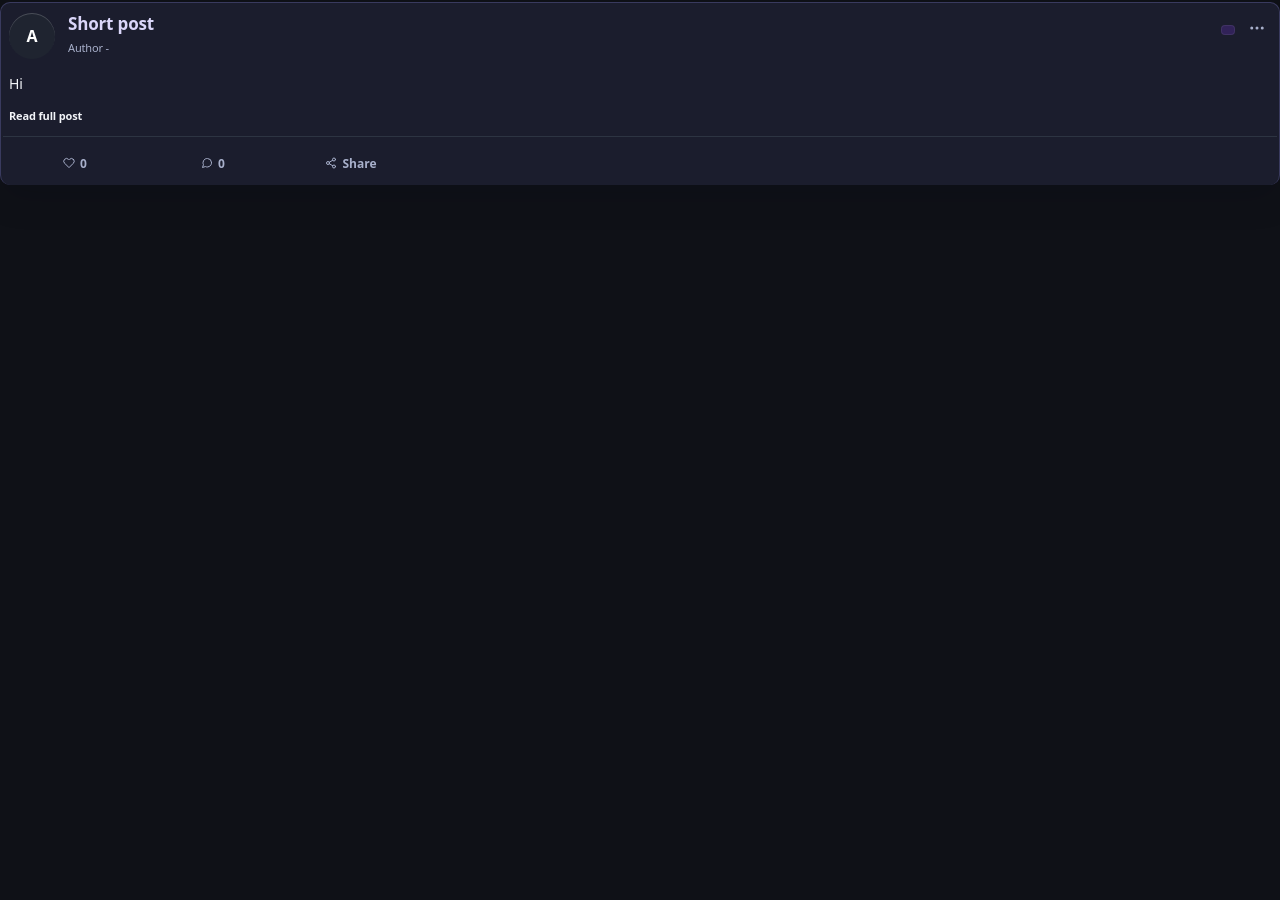
Scenario: keeps the report dialog open with clear failure feedback for 409
This screenshot has width=1280, height=900.
Click the button named "More options" at (1256, 28), box [1241,13,1271,43]
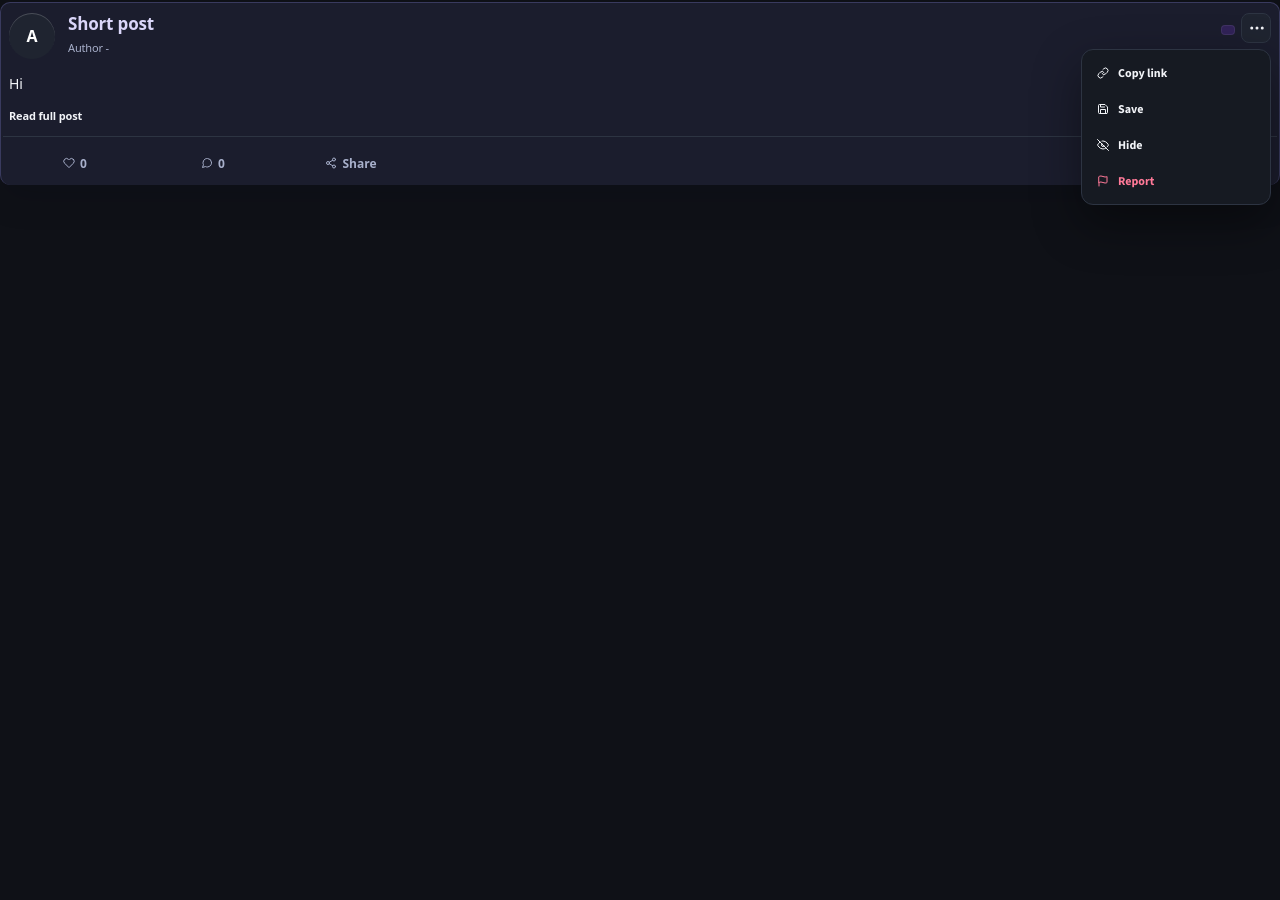
Click the menu item "Report" at (1176, 181), box [1087,163,1265,199]
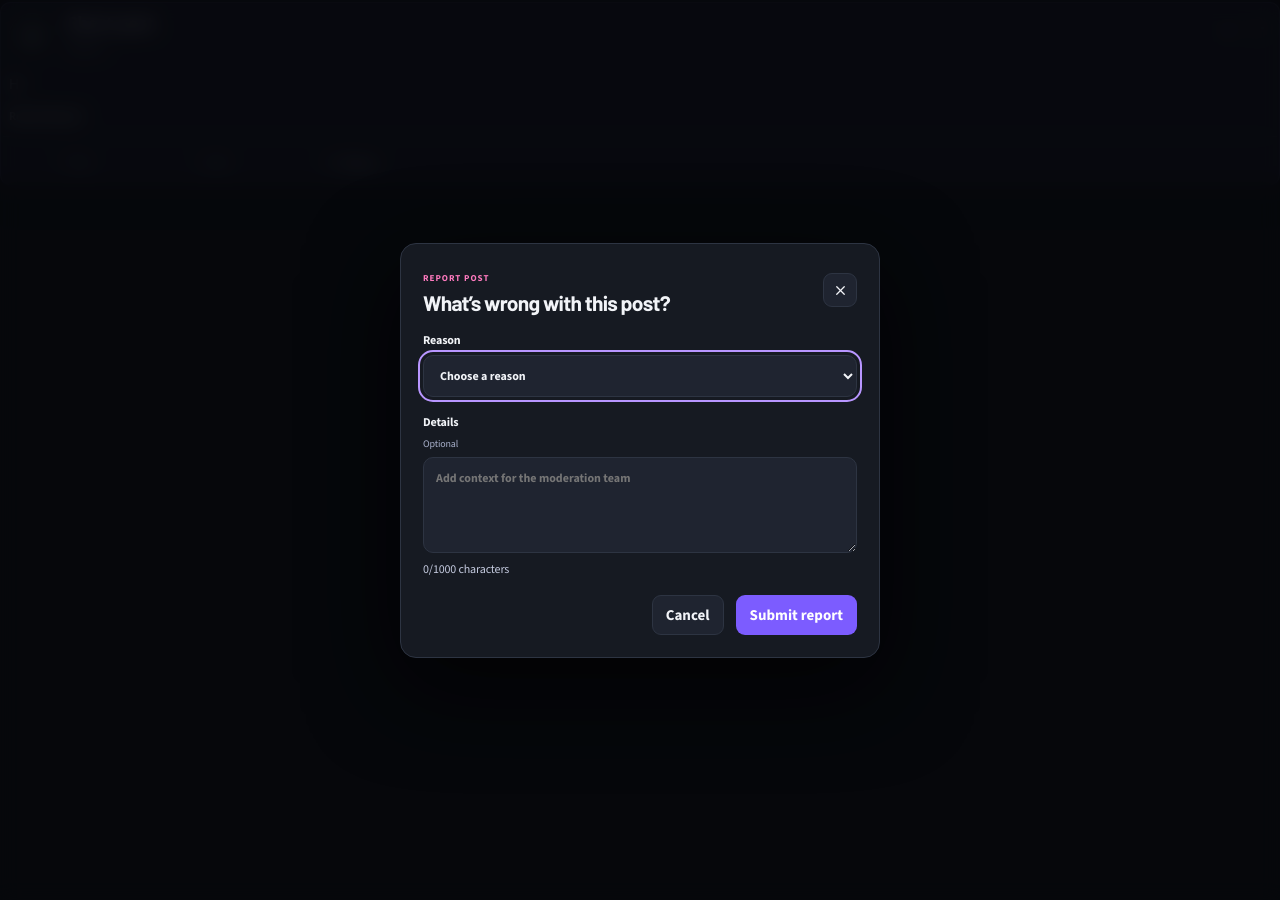
Select "Harassment" in the dropdown labelled "Reason" at (640, 376), box [423,354,857,396]
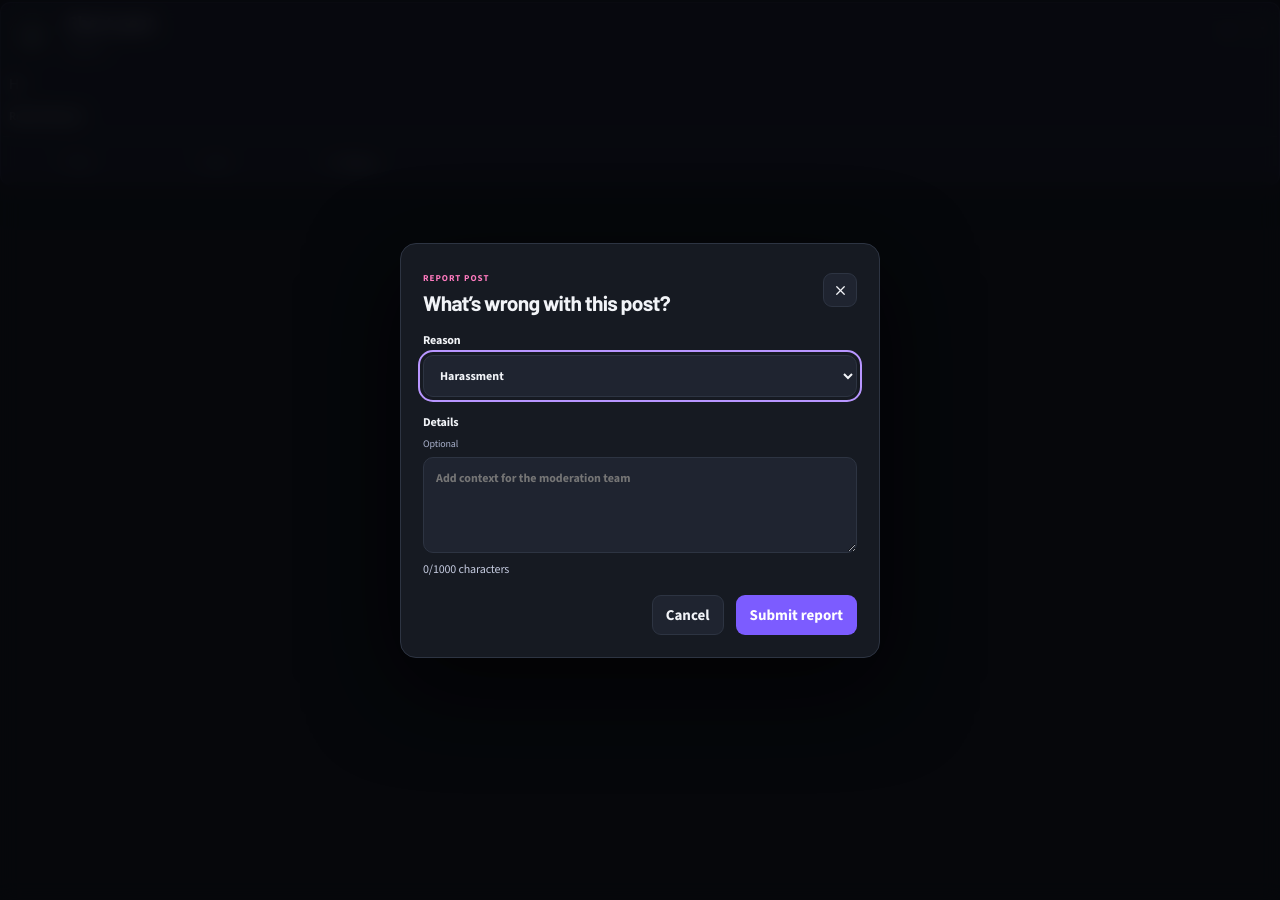
Click the button "Submit report" at (796, 614), box [736,594,857,634]
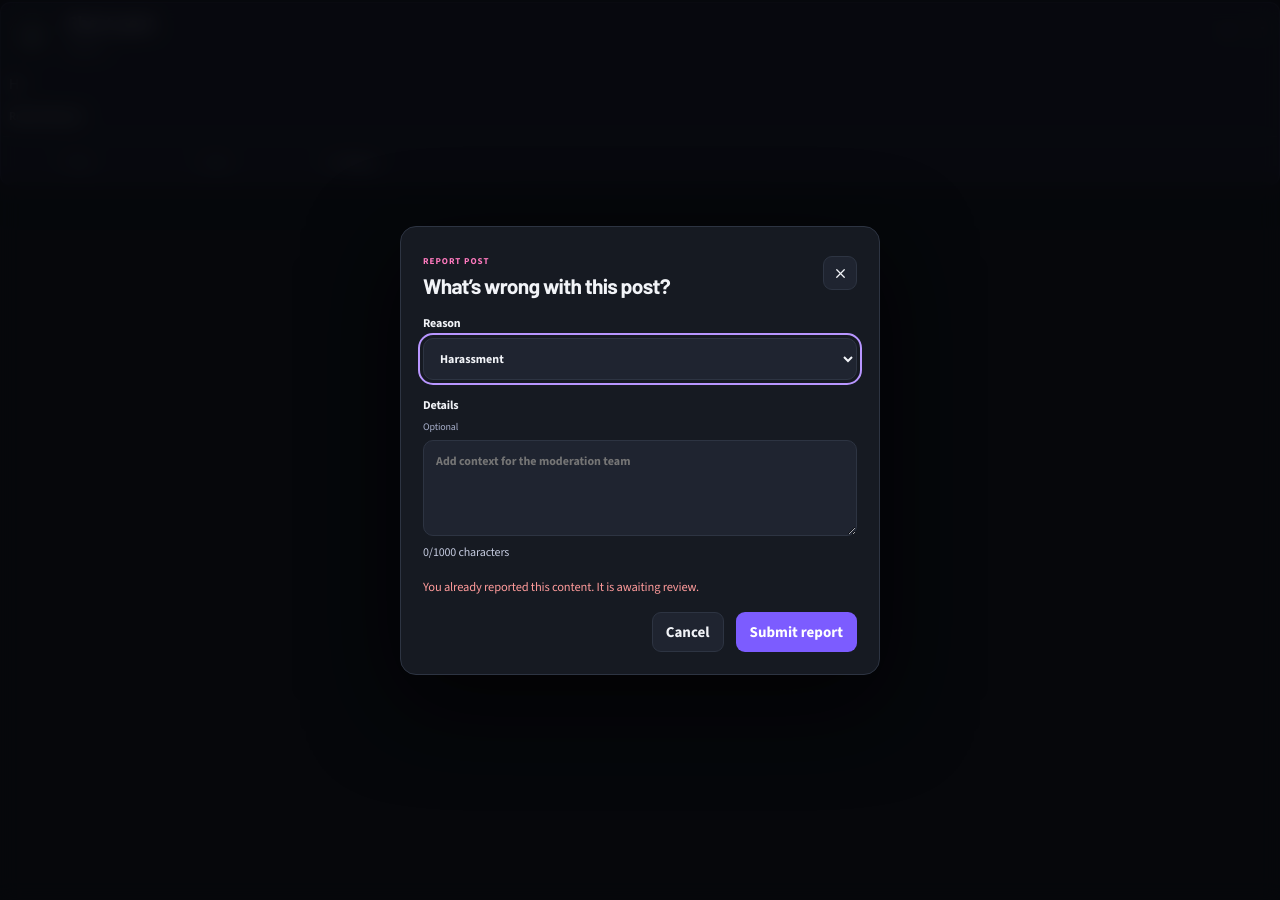
Expected: the button "Submit report" is enabled, [736,612,857,652]
Expected: the message shows "already reported", [423,578,699,594]
